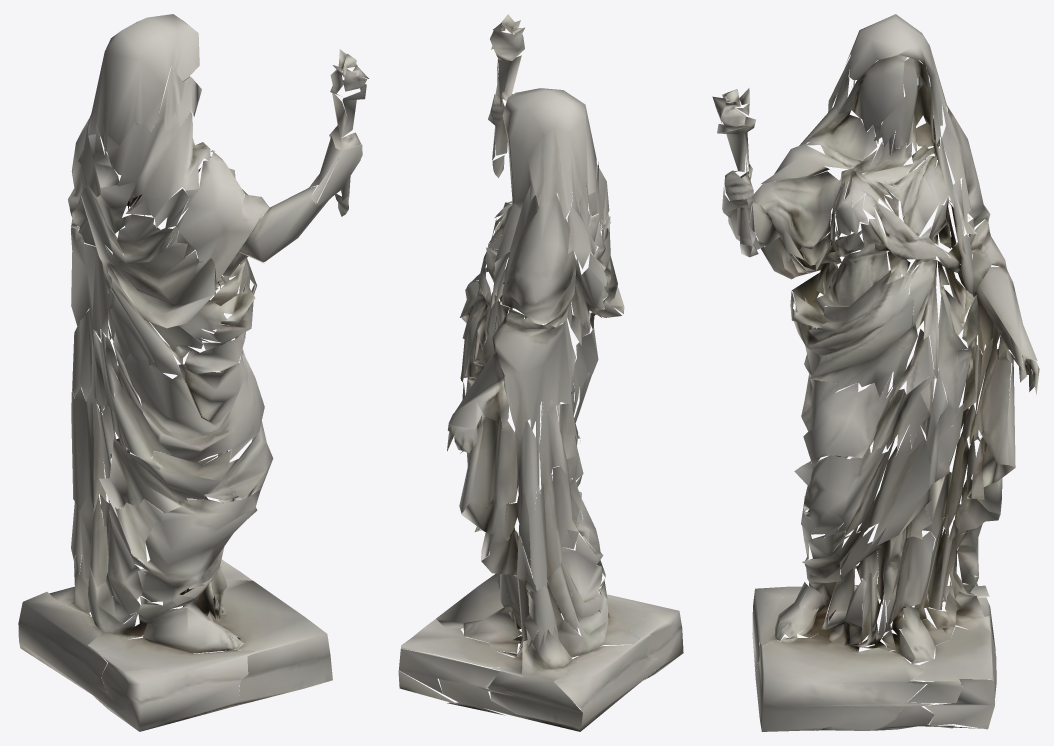
File: cp_statue.glb
3 views of the same model, side by side, from view 1: azimuth 30°, elevation 25°; view 2: azimuth 150°, elevation 25°; view 3: azimuth 270°, elevation 25° (orthographic). The views are drawn at different scales.
Parts seen in each view (by area): view 1: tripo_node_04852874-17df-4358-9a65-16c517a566f2; view 2: tripo_node_04852874-17df-4358-9a65-16c517a566f2; view 3: tripo_node_04852874-17df-4358-9a65-16c517a566f2.
Part boxes in pixels (x1,y1,x2,y2): tripo_node_04852874-17df-4358-9a65-16c517a566f2: [18, 14, 368, 731]; tripo_node_04852874-17df-4358-9a65-16c517a566f2: [398, 14, 683, 731]; tripo_node_04852874-17df-4358-9a65-16c517a566f2: [712, 14, 1039, 731].
Bounding box in the file's own units: 0.3661 × 1 × 0.4542.
1 material, 1 textured.
